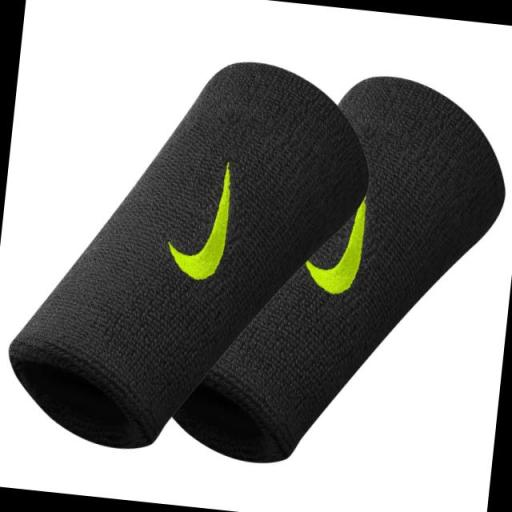Nike: (160, 154, 240, 292)
